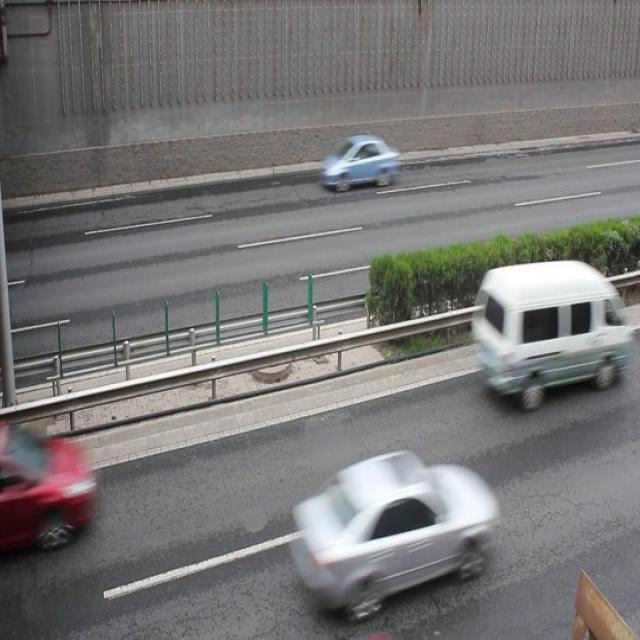car: (295, 448, 495, 612), (0, 417, 96, 543), (320, 134, 399, 193)
truck: (475, 260, 628, 400)
